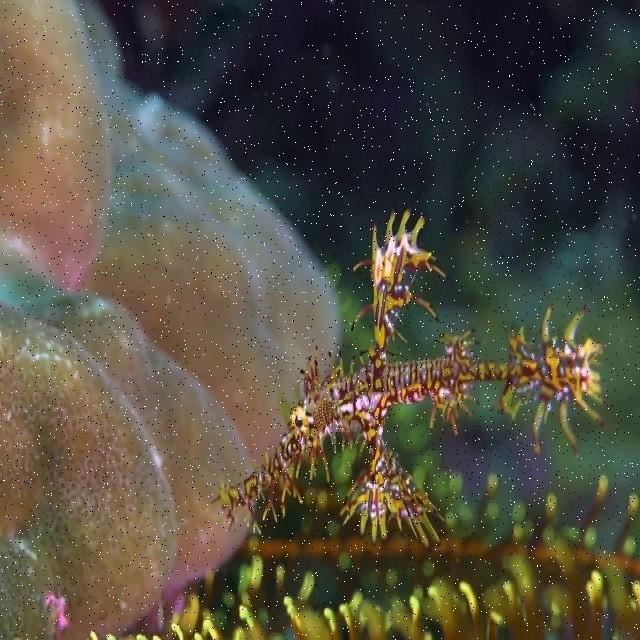fish: (207, 208, 608, 549)
reefs: (0, 1, 341, 639)
